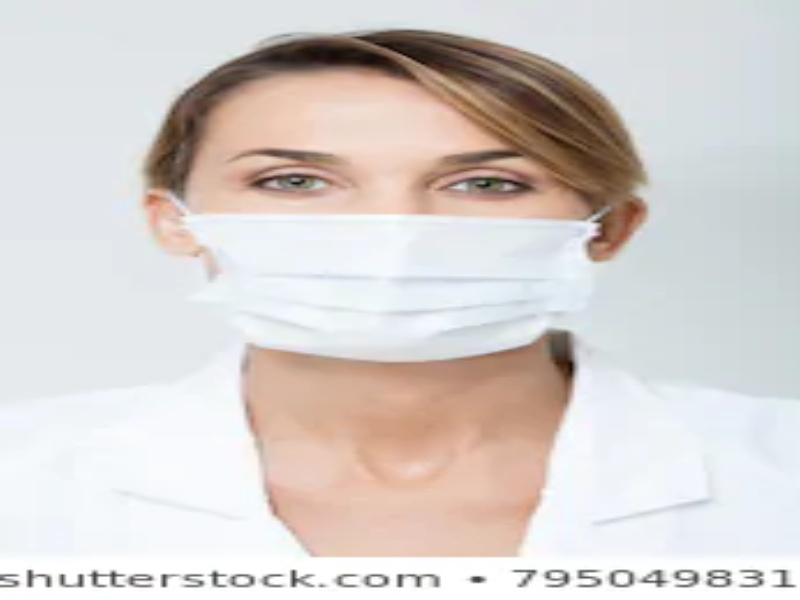ManaoArotava: (134, 15, 676, 393)
